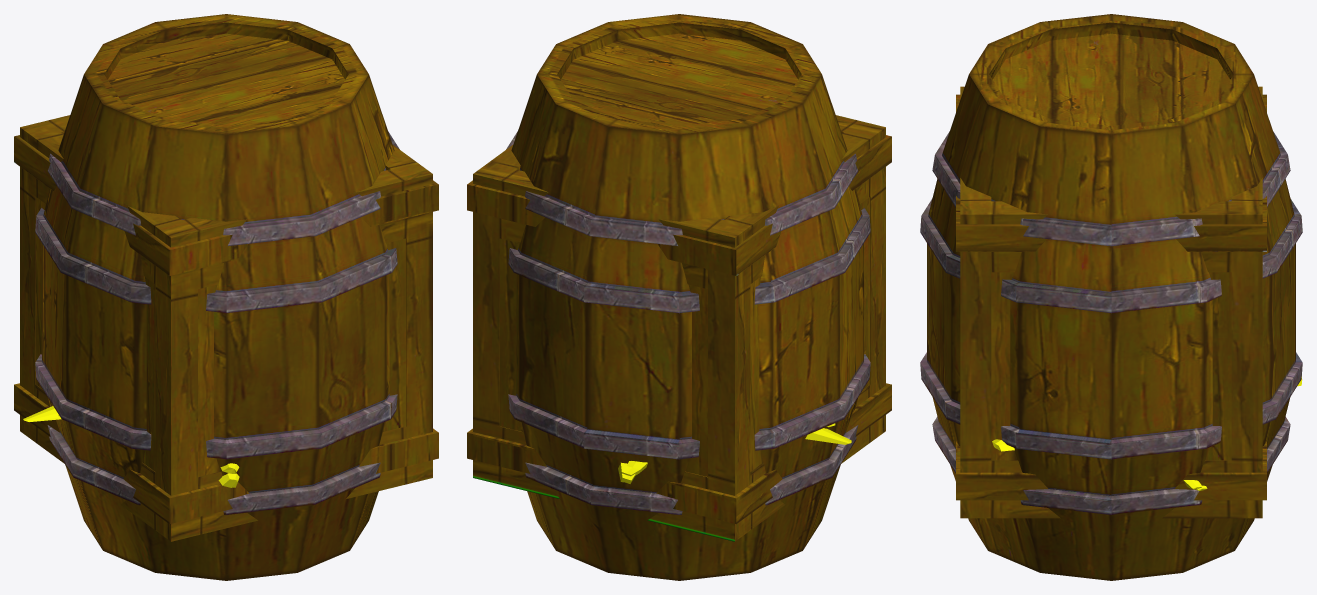
Rendered from asset.fbx.
The picture shows the model from 3 angles, left to right: view 1: azimuth 30°, elevation 25°; view 2: azimuth 150°, elevation 25°; view 3: azimuth 270°, elevation 25°; orthographic projection.
Parts seen in each view (by area): view 1: box4, box1, box3, box2, banana1; view 2: box4, box3, box2, box1, banana1; view 3: box4, box2, box3, box1.
Boxes of the visible parts, box(x1,y1,x2,y2) form: box4: box(35, 14, 399, 580); box1: box(20, 167, 432, 541); box3: box(14, 135, 438, 524); box2: box(20, 115, 432, 489); banana1: box(23, 406, 239, 487); box4: box(506, 14, 870, 580); box3: box(467, 135, 891, 524); box2: box(473, 115, 885, 495); box1: box(473, 167, 885, 541); banana1: box(618, 428, 851, 483); box4: box(920, 14, 1302, 580); box2: box(960, 86, 1262, 472); box3: box(956, 94, 1266, 500); box1: box(960, 252, 1262, 518).
Size of the model in its own units: 26.52 by 32.07 by 24.9.
